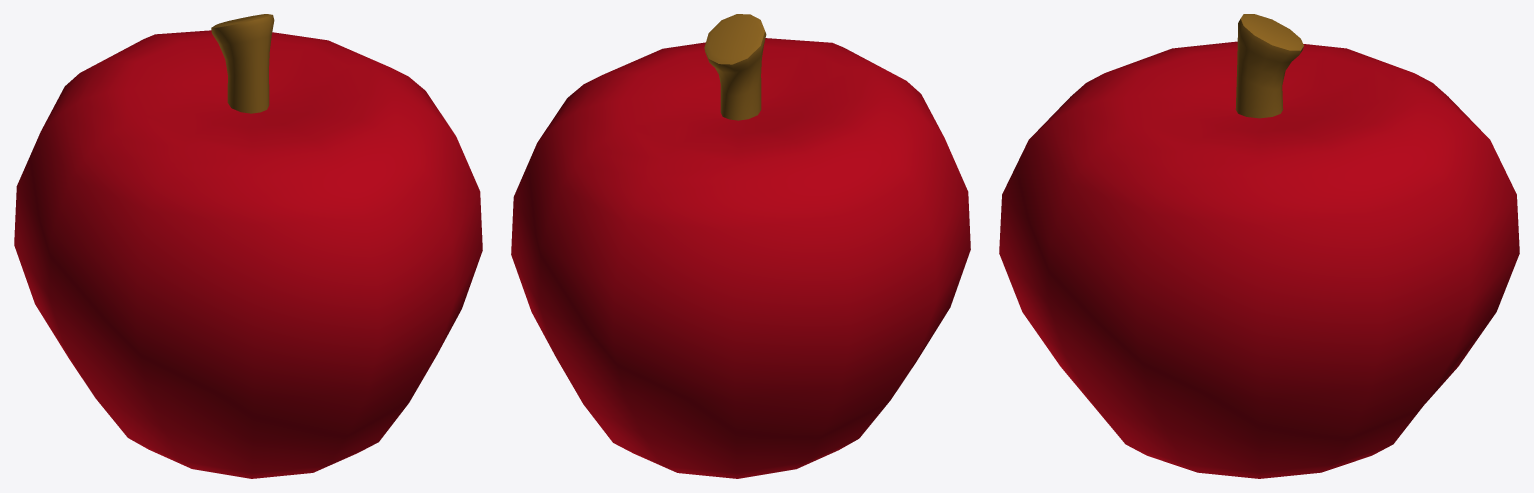
The model's file is apple.fbx.
3 renders of one model, left to right at view 1: azimuth 30°, elevation 25°; view 2: azimuth 150°, elevation 25°; view 3: azimuth 270°, elevation 25°, orthographic.
Parts seen in each view (by area): view 1: apple; view 2: apple; view 3: apple.
Boxes of the visible parts, left/top/right/bottom form: apple: left=14, top=14, right=482, bottom=478; apple: left=511, top=14, right=970, bottom=478; apple: left=999, top=14, right=1519, bottom=478.
Size of the model in its own units: 41.04 by 41.05 by 46.43.
